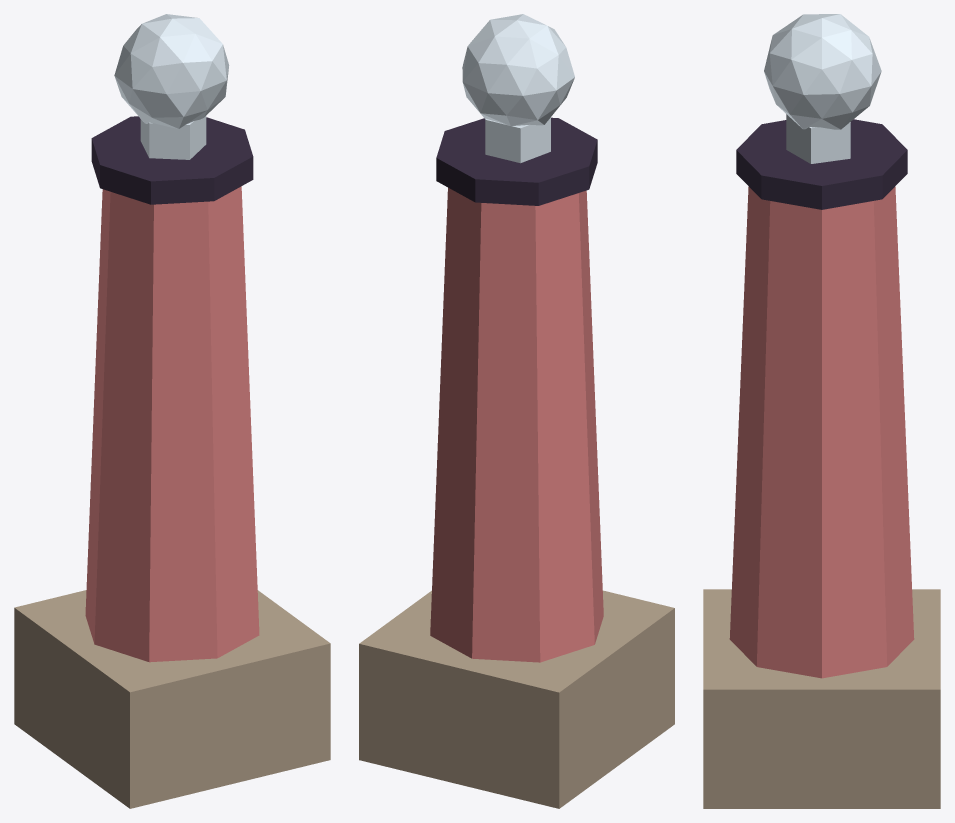
File: chimney-stack.glb
The picture shows the model from 3 angles, left to right: view 1: azimuth 30°, elevation 25°; view 2: azimuth 150°, elevation 25°; view 3: azimuth 270°, elevation 25°; orthographic projection. The views are drawn at different scales.
Visible parts, largest first — view 1: factory-chimney-stack; view 2: factory-chimney-stack; view 3: factory-chimney-stack.
Boxes of the visible parts, x1=… form: factory-chimney-stack: x1=14, y1=14, x2=330, y2=808; factory-chimney-stack: x1=359, y1=14, x2=674, y2=808; factory-chimney-stack: x1=703, y1=14, x2=940, y2=808.
Size of the model in its own units: 0.36 by 1.24 by 0.36.
